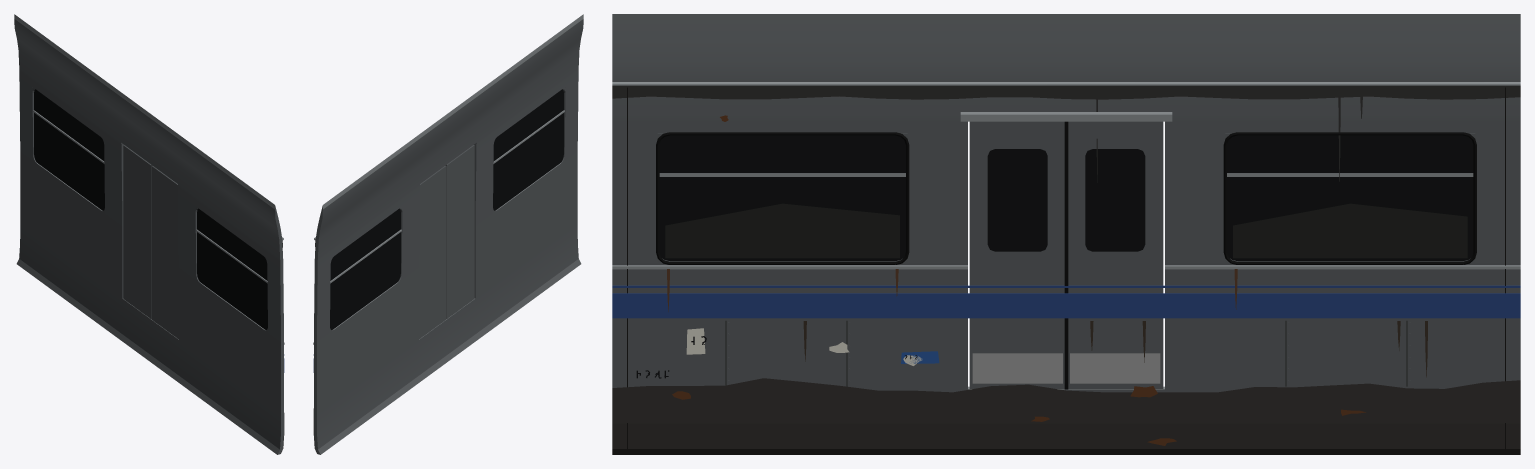
The model's file is metro_dormant_a@1.glb.
3 views of the same model, side by side, from view 1: azimuth 30°, elevation 25°; view 2: azimuth 150°, elevation 25°; view 3: azimuth 270°, elevation 25° (orthographic). The views are drawn at different scales.
Parts seen in each view (by area): view 1: oben, schuerze, unten-3.00, unten0.65, glas1.1, glas-2.7, tuer1, tuer0, pfeiler0.65, pfeiler-1.05, pfeiler-3.00, pfeiler2.70 (+2 smaller); view 2: oben, schuerze, unten0.65, unten-3.00, glas-2.7, glas1.1, tuer0, tuer1, pfeiler-1.05, pfeiler0.65, pfeiler2.70, pfeiler-3.00 (+2 smaller); view 3: oben, bremsstaub, unten0.65, unten-3.00, streifen, glas1.1, glas-2.7, tuer1, tuer0, ablaufschmutz, glas_staub-2.7, glas_staub1.1 (+19 smaller).
Part boxes in pixels (x1,y1,x2,y2): oben: (14,14,282,258); schuerze: (16,224,283,454); unten-3.00: (179,267,283,414); unten0.65: (20,151,123,298); glas1.1: (34,89,104,210); glas-2.7: (197,208,267,329); tuer1: (123,145,151,318); tuer0: (151,165,178,339); pfeiler0.65: (104,140,123,225); pfeiler-1.05: (178,193,196,279); pfeiler-3.00: (267,259,283,341); pfeiler2.70: (19,77,33,160); oben: (315,14,583,258); schuerze: (314,224,581,454); unten0.65: (314,267,418,414); unten-3.00: (474,151,577,298); glas-2.7: (493,89,563,210); glas1.1: (330,208,400,329); tuer0: (446,145,474,318); tuer1: (419,165,446,339); pfeiler-1.05: (474,140,493,225); pfeiler0.65: (401,193,419,279); pfeiler2.70: (314,259,330,341); pfeiler-3.00: (564,77,578,160); oben: (612,14,1520,116); bremsstaub: (612,378,1520,454); unten0.65: (1165,261,1520,389); unten-3.00: (612,261,967,389); streifen: (612,293,1520,318); glas1.1: (1227,135,1473,261); glas-2.7: (659,135,905,261); tuer1: (1068,121,1163,388); tuer0: (969,121,1064,388); ablaufschmutz: (612,86,1520,182); glas_staub-2.7: (665,203,899,258); glas_staub1.1: (1233,203,1467,258).
Size of the model in its own units: 0.1591 by 3.18 by 6.
